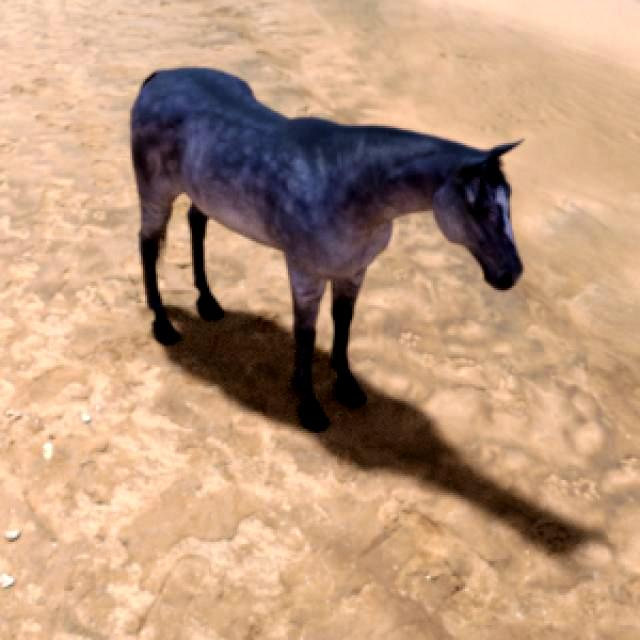horse: (131, 72, 521, 431)
